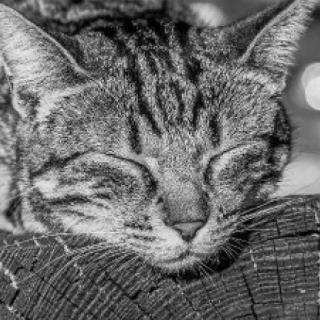cat: (0, 0, 311, 281)
nose: (154, 175, 217, 246)
